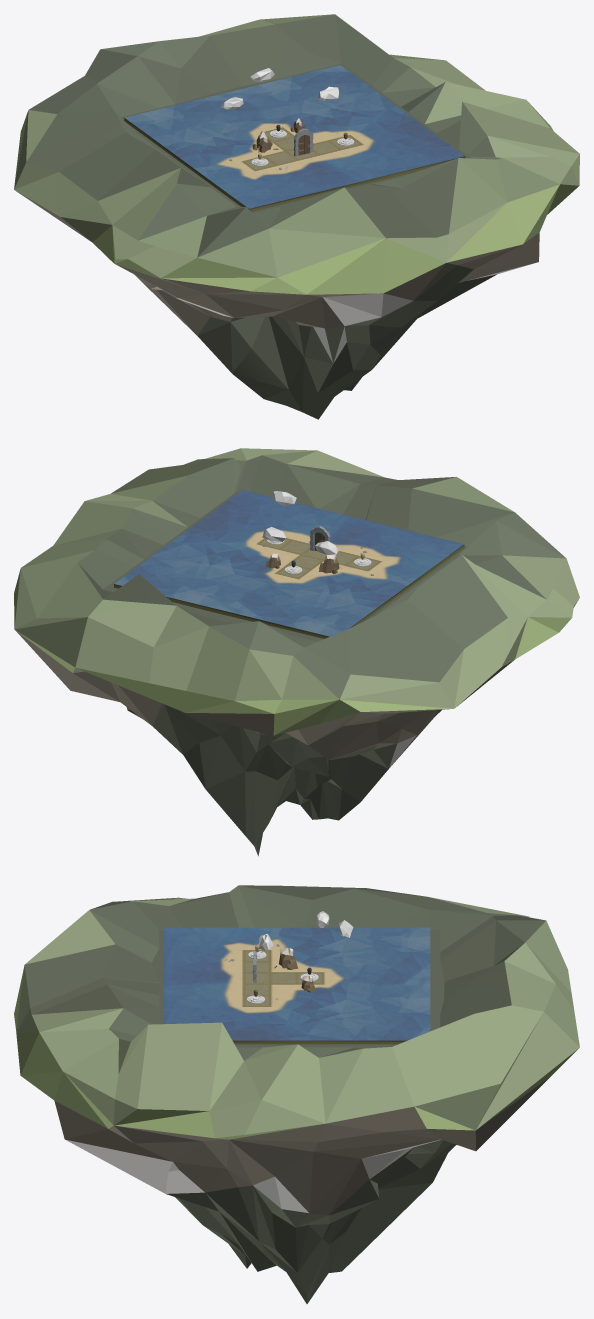
Rendered from Level1.fbx.
3 renders of one model, top to bottom at view 1: azimuth 30°, elevation 25°; view 2: azimuth 150°, elevation 25°; view 3: azimuth 270°, elevation 25°, orthographic. The views are drawn at different scales.
Visible parts, largest first — view 1: Island, pCube1; view 2: Island, pCube1; view 3: Island, pCube1.
Part boxes in pixels (<box>): Island: <box>14,14,579,419</box>; pCube1: <box>124,65,465,211</box>; Island: <box>14,448,579,856</box>; pCube1: <box>114,490,464,638</box>; Island: <box>14,885,579,1303</box>; pCube1: <box>163,927,430,1044</box>.
Bounding box in the file's own units: 4099 × 2923 × 4089.
